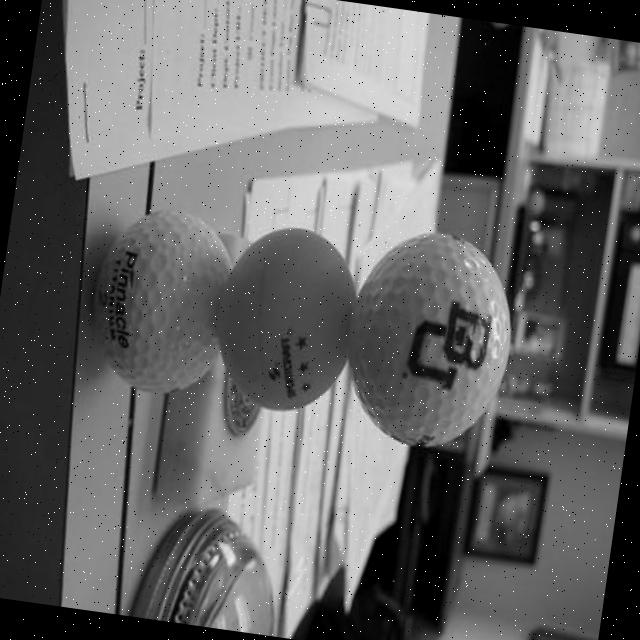ping-pong-ball: (200, 217, 370, 425)
